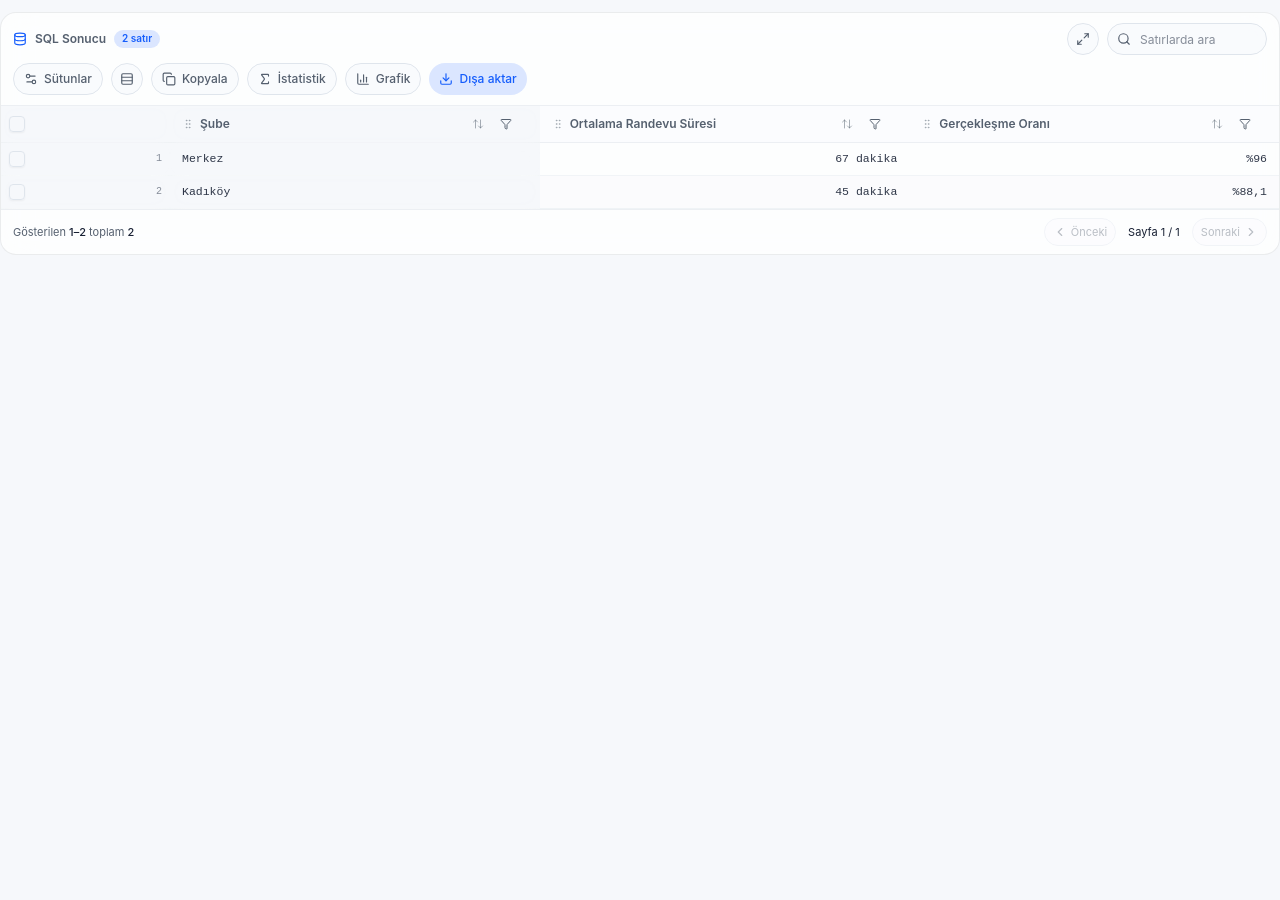
Test case: SqlResultsTable — sütun etiketleri (AI-INTELLIGENCE-013) › SQL sonucunu geniş inceleme görünümünde açar
Click the button named "Tam ekran incele": x=1083, y=39 [1067,23,1099,55]
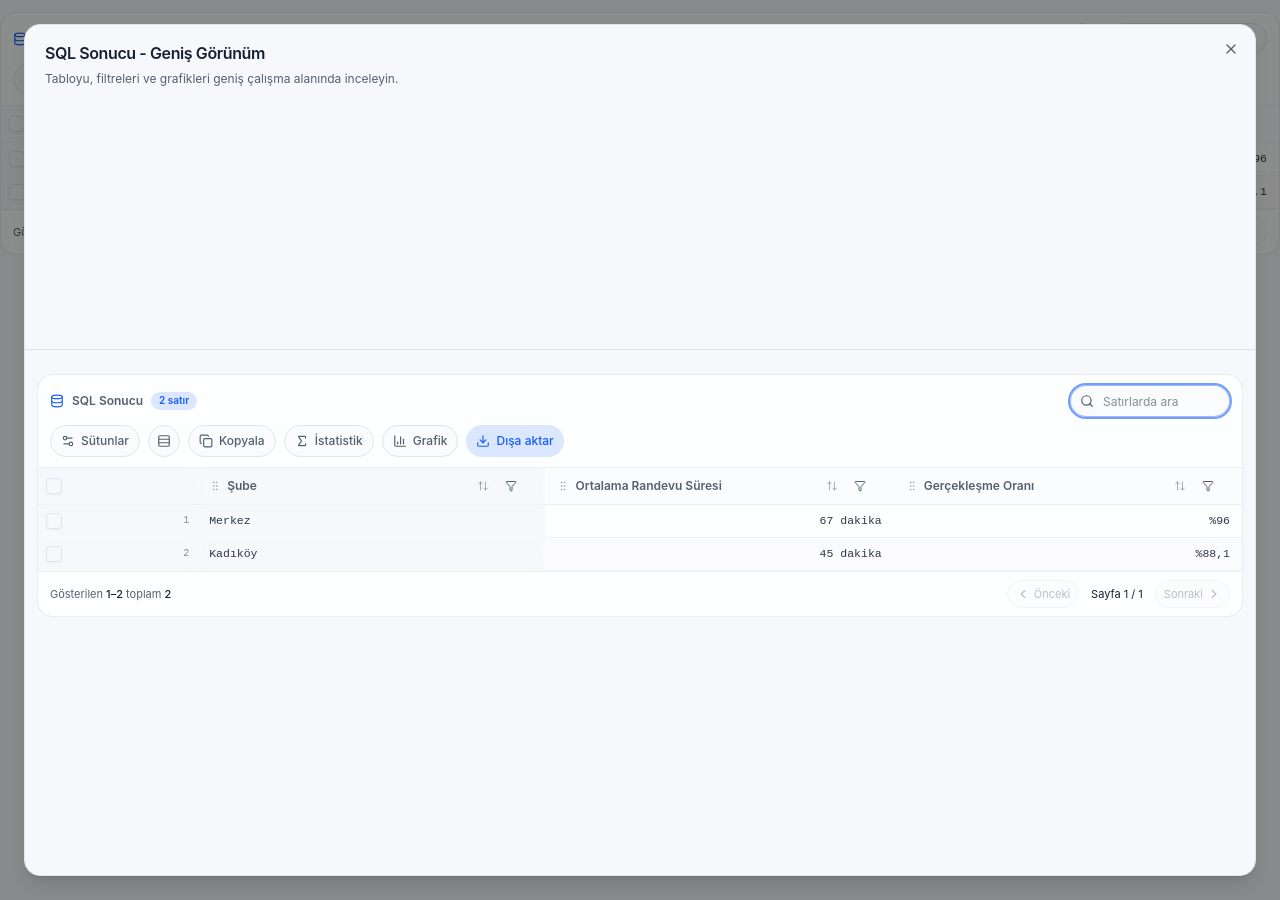
Expected: the dialog is shown
Expected: the heading "SQL Sonucu - Geniş Görünüm" is shown, [45,43,265,63]
Expected: the table is shown, [38,468,1242,571]
